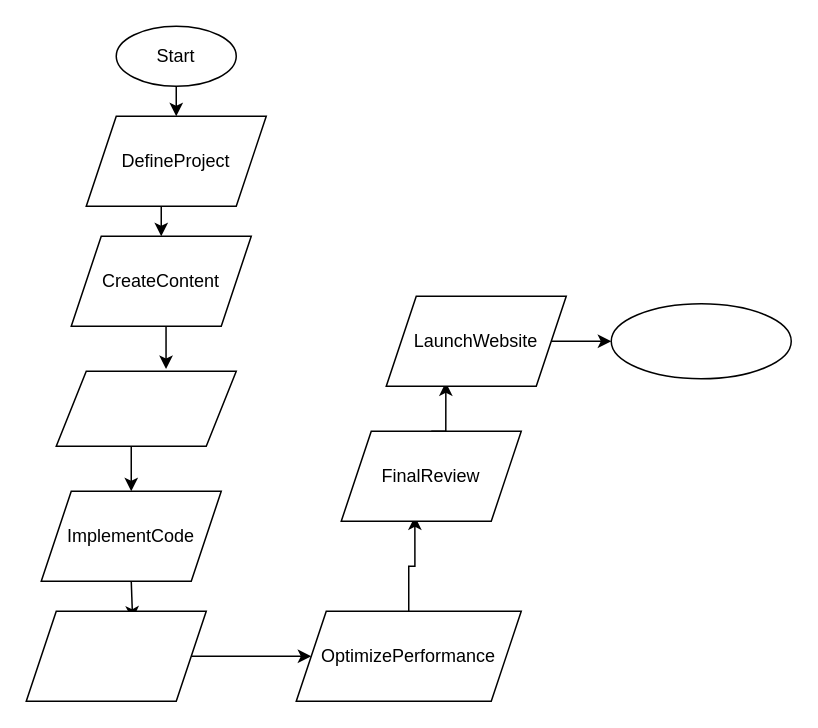
The diagram is 818 pixels wide and 728 high, and some of its shapes have lost their labels. Here are the shapes that lost their labels. From the top down, the box of each, then its label:
(610, 302, 791, 379): End
(55, 370, 236, 446): DesignLayout
(25, 610, 206, 701): TestWebsite
